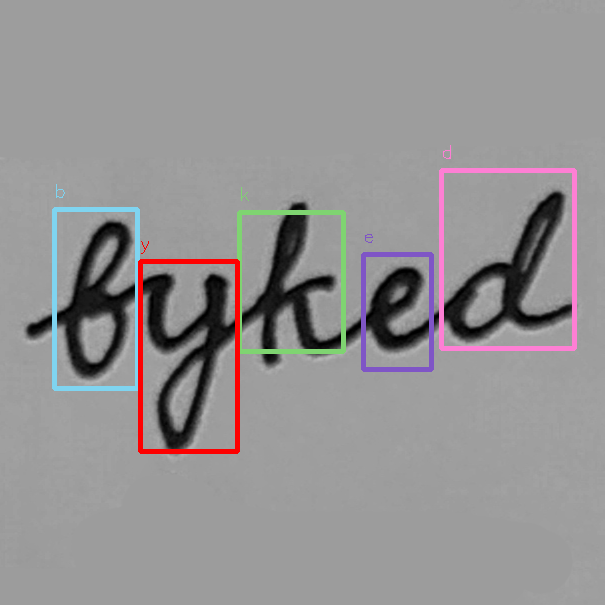b: (60, 215, 135, 381)
d: (442, 187, 570, 344)
e: (364, 262, 431, 353)
k: (255, 199, 342, 371)
y: (136, 266, 236, 455)
